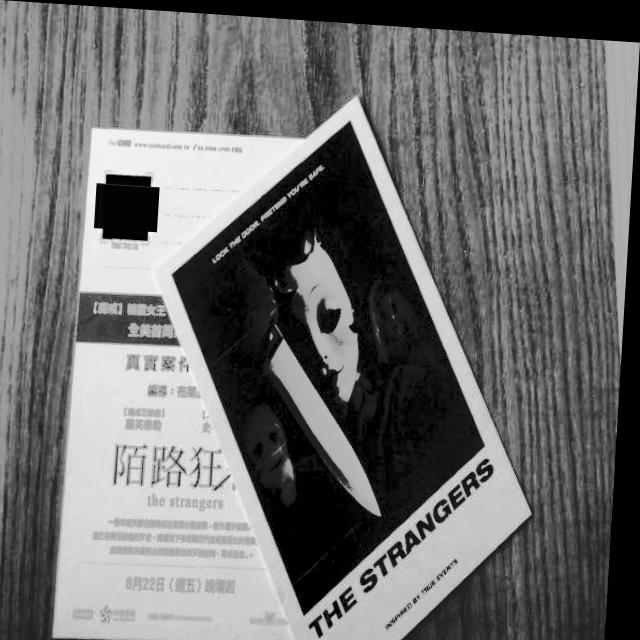qr_code: (100, 177, 158, 235)
